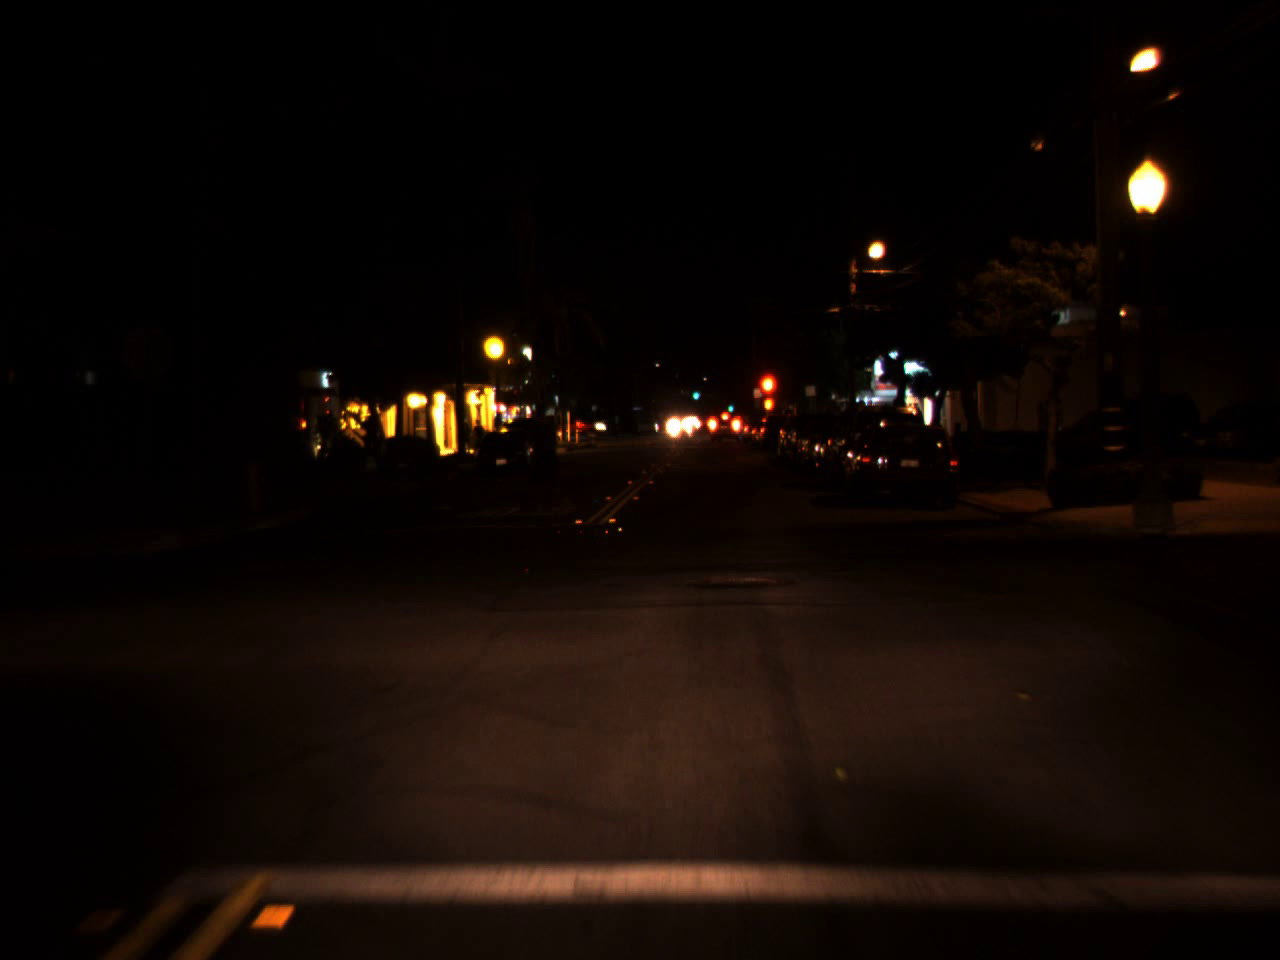go: (691, 384, 700, 402), (727, 399, 734, 414)
stop: (756, 370, 780, 421)
